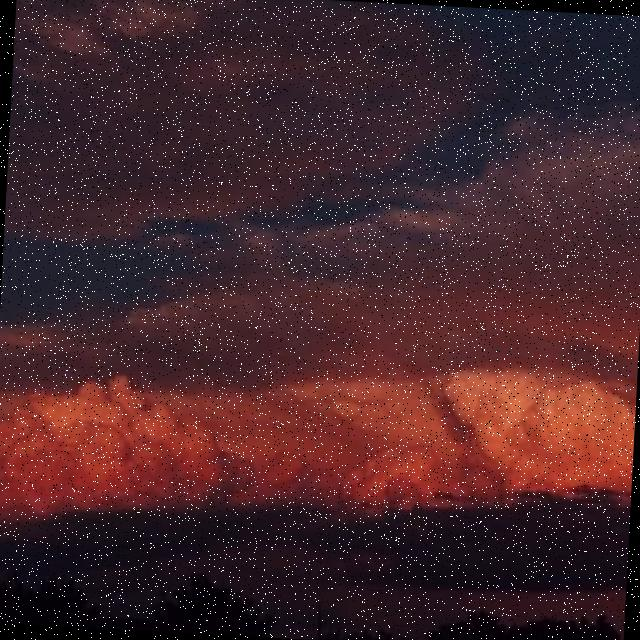Cu: (1, 55, 640, 512)
